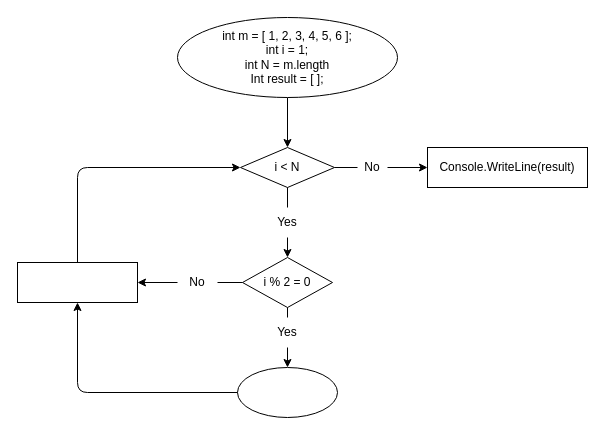
This 605x435 diagram has some shape labels left out. Here are the shapes that lost their labels. From the top down, the box of each, then its label:
(16, 262, 138, 302): i = i + 1
(236, 366, 338, 418): int result = i
